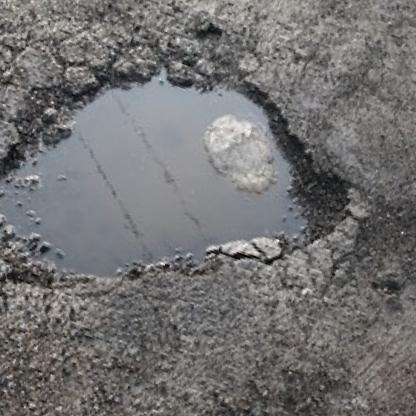pothole: (0, 2, 383, 370)
